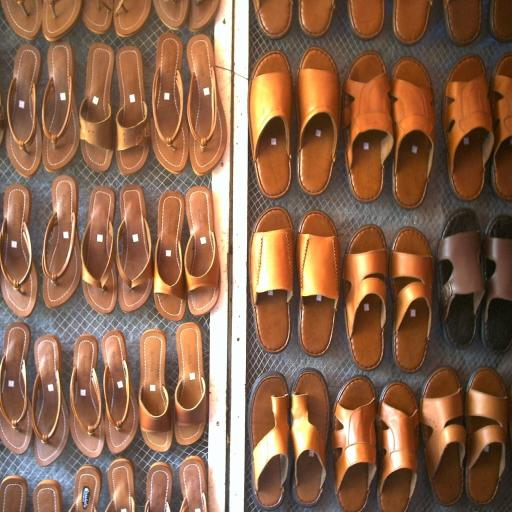sandal: (144, 0, 172, 512), (342, 2, 394, 202), (443, 0, 494, 201), (390, 1, 435, 209), (295, 8, 341, 196), (186, 0, 228, 176), (150, 0, 189, 174), (249, 207, 295, 353), (437, 209, 485, 348), (342, 225, 388, 370), (248, 50, 292, 198), (389, 227, 433, 373), (296, 210, 340, 356), (420, 367, 466, 506), (332, 376, 377, 512), (465, 366, 509, 504), (116, 0, 150, 175), (248, 372, 290, 510), (377, 381, 419, 512), (42, 175, 82, 308), (291, 368, 329, 507), (0, 184, 38, 317), (32, 334, 70, 466), (42, 41, 80, 172), (80, 185, 118, 314), (6, 44, 42, 178), (101, 330, 139, 455), (116, 184, 153, 312), (184, 186, 220, 316), (79, 43, 115, 172), (489, 3, 512, 200), (69, 334, 105, 458), (153, 192, 187, 322), (41, 0, 148, 41), (481, 214, 512, 354), (0, 322, 32, 454), (139, 329, 173, 452), (174, 322, 208, 445), (193, 0, 293, 39), (281, 0, 336, 37), (393, 0, 432, 45), (443, 0, 482, 45), (1, 0, 43, 41), (106, 457, 136, 512), (171, 0, 220, 33), (180, 455, 208, 512), (69, 464, 102, 512), (347, 0, 384, 39), (112, 0, 151, 37), (152, 0, 194, 31), (81, 0, 114, 35), (0, 474, 27, 512), (489, 0, 512, 43), (33, 478, 62, 512)
